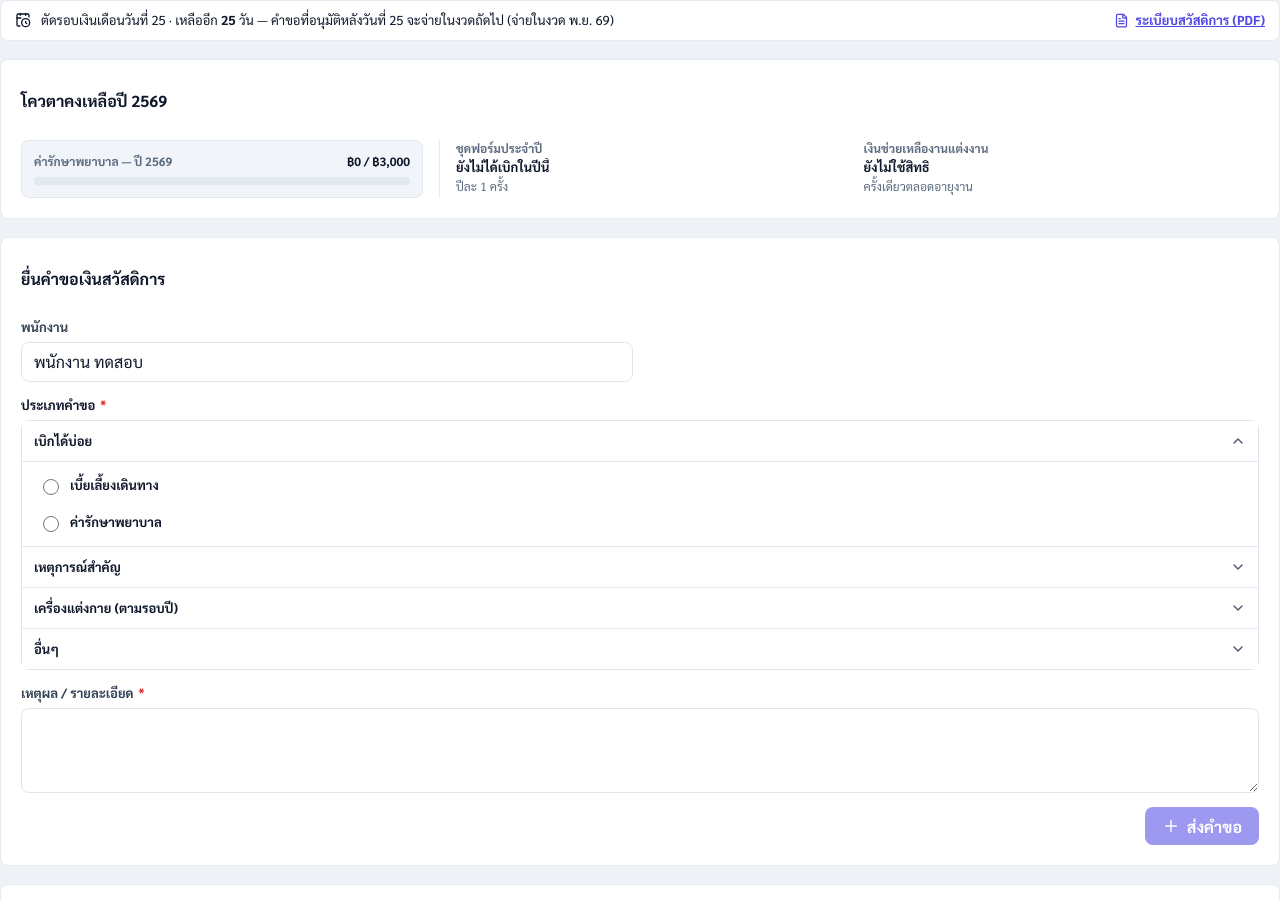
Scenario: SpecialMoneyPanel › drives a collapsed group panel from state, never combining the hidden attribute with a `flex` class
The width and height of the screenshot is (1280, 900).
Expected: the button "เบิกได้บ่อย" is shown, [22,421,1258,461]
Click the button "อื่นๆ" at (46, 648), box [22,629,1258,669]
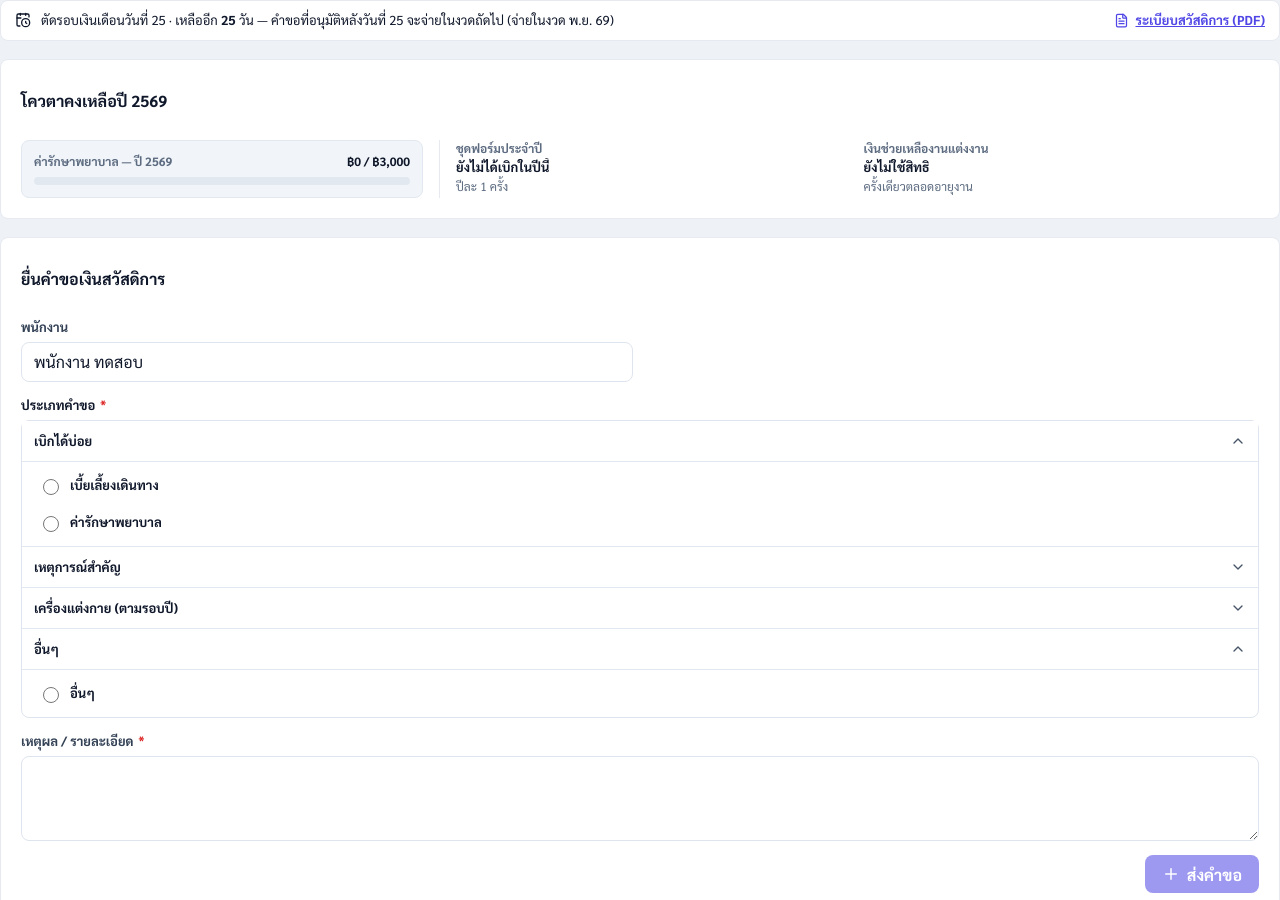
Expected: the radio button labelled "อื่นๆ" is shown, [43,687,59,703]
